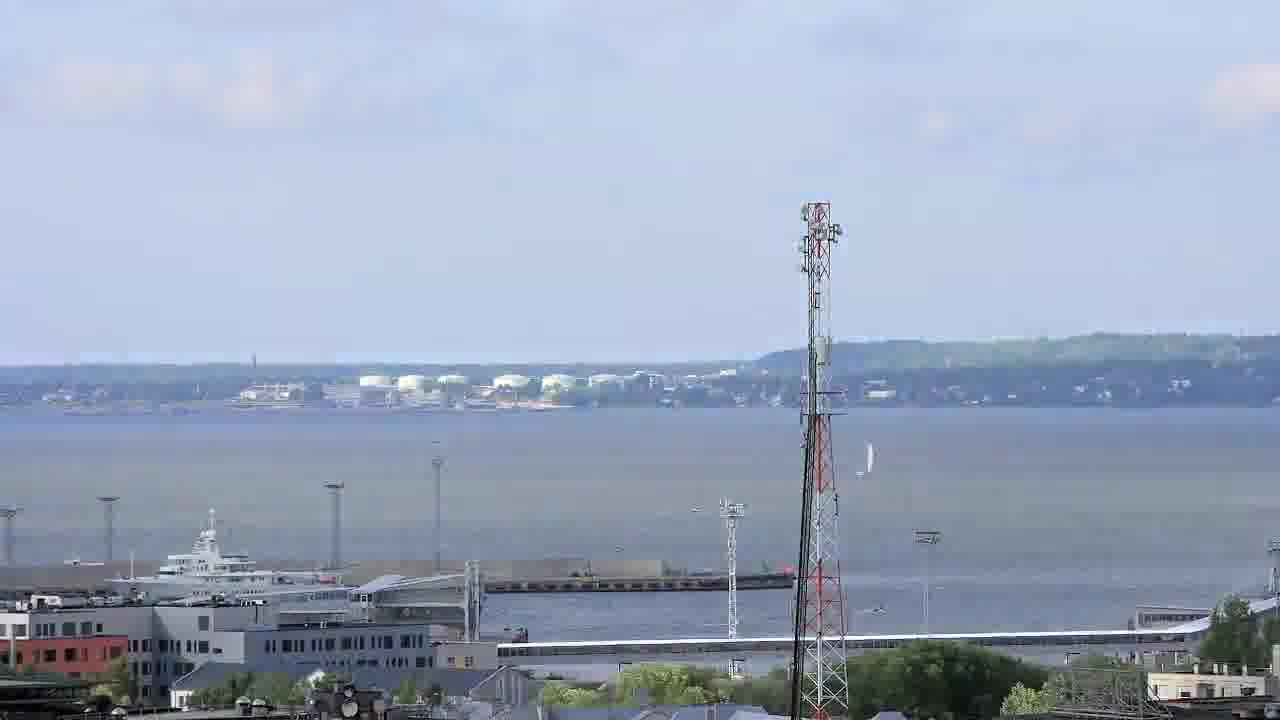type-2: (847, 440, 891, 487)
type-3: (84, 515, 355, 603)
